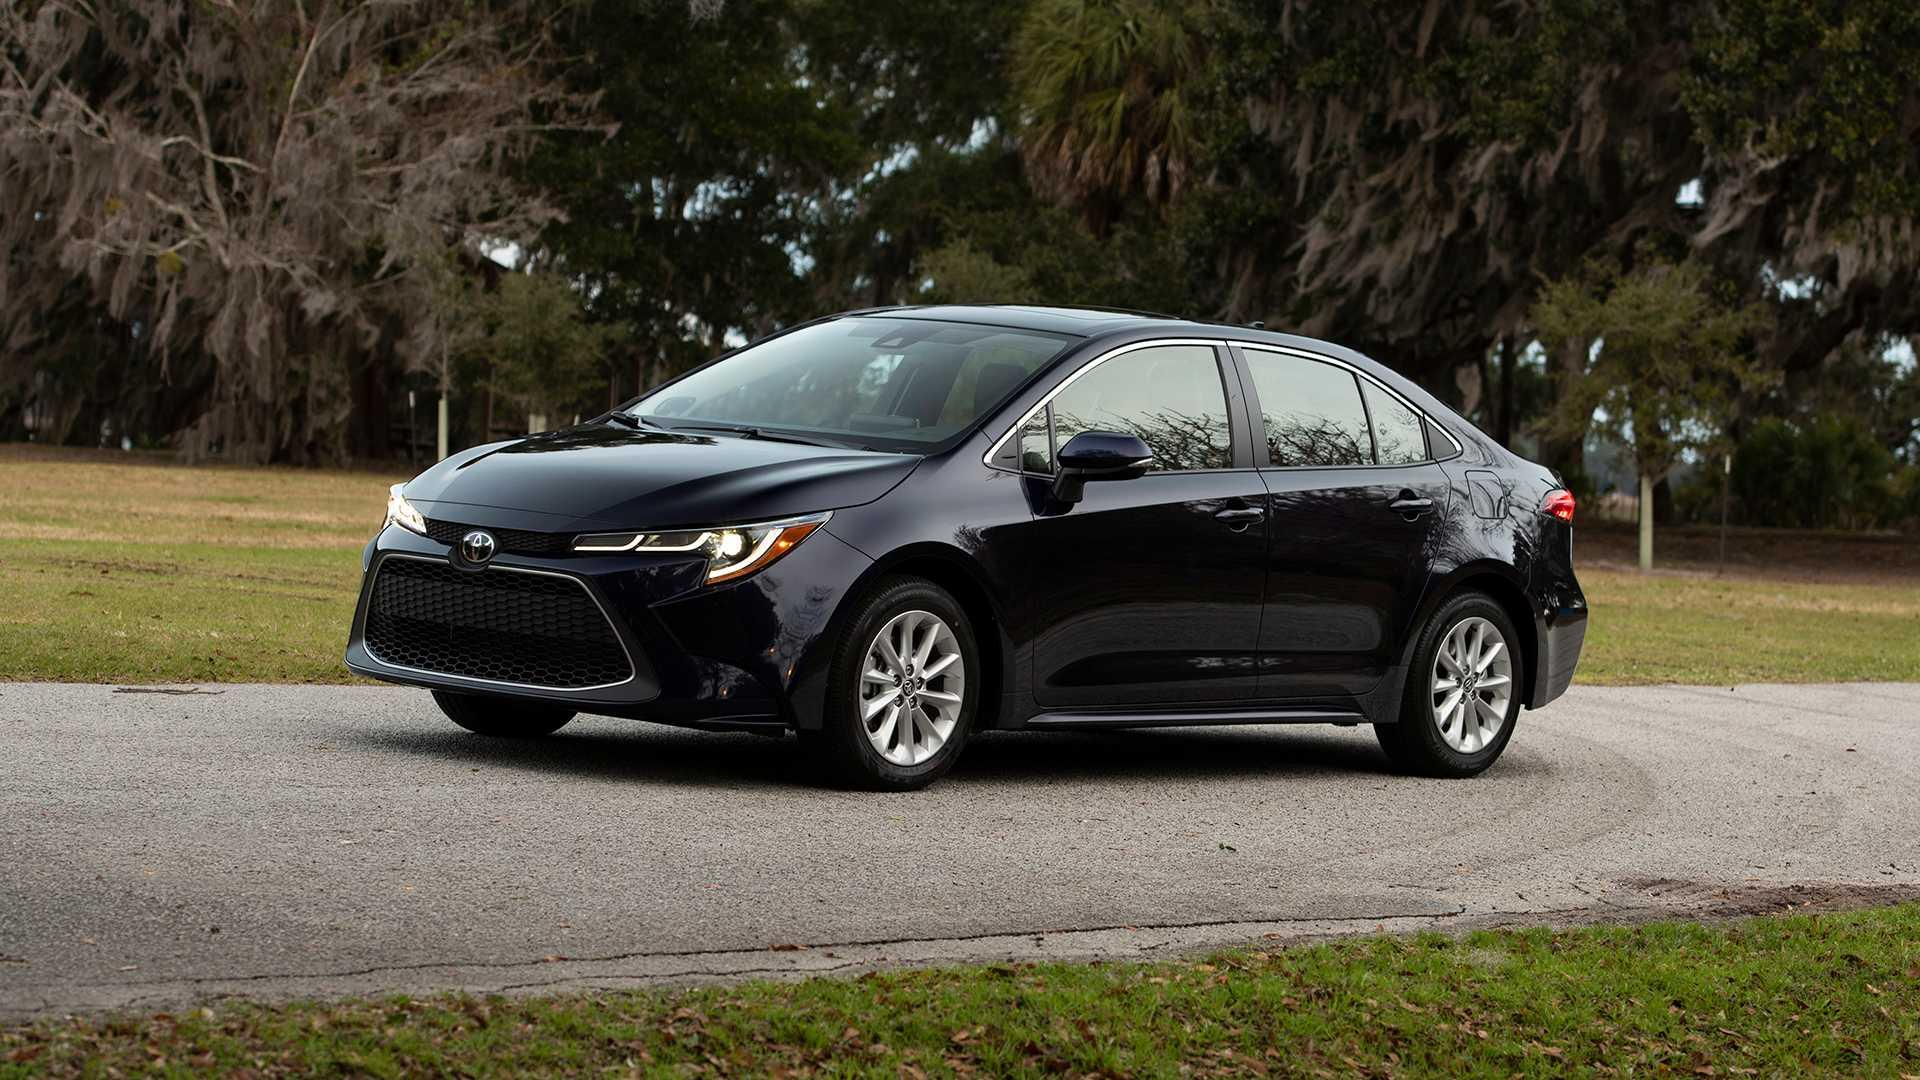car: (342, 301, 1588, 793)
